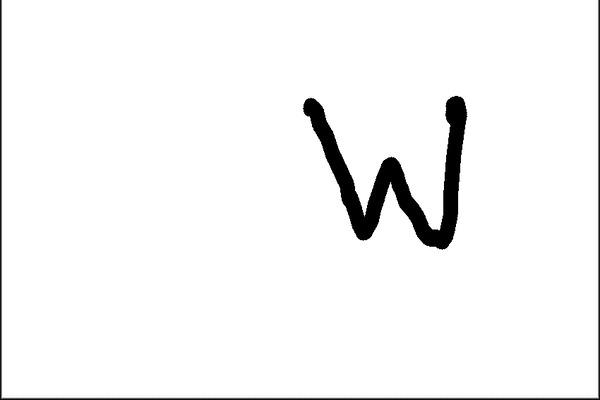w: (275, 63, 475, 262)
